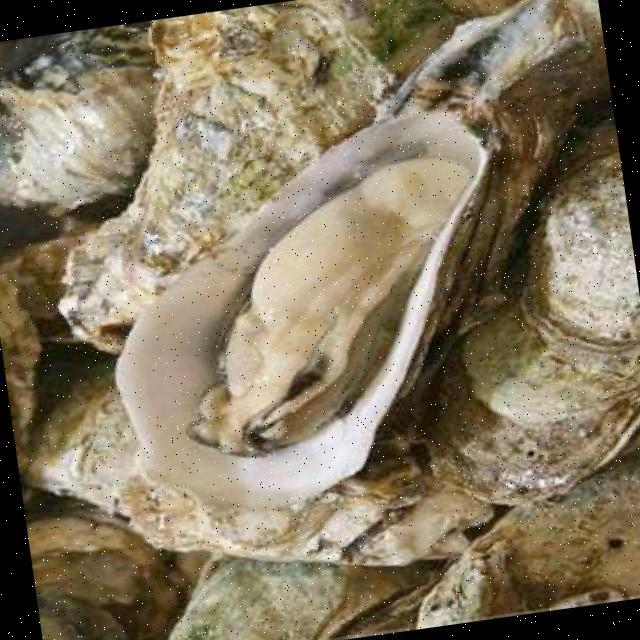Oyster-Closed: (49, 0, 528, 357), (22, 365, 507, 575), (394, 442, 639, 633), (0, 22, 159, 237), (430, 350, 639, 505), (514, 141, 639, 378), (25, 502, 223, 639), (159, 552, 456, 639), (456, 294, 639, 428)
Oyster-Open: (96, 0, 600, 529)
